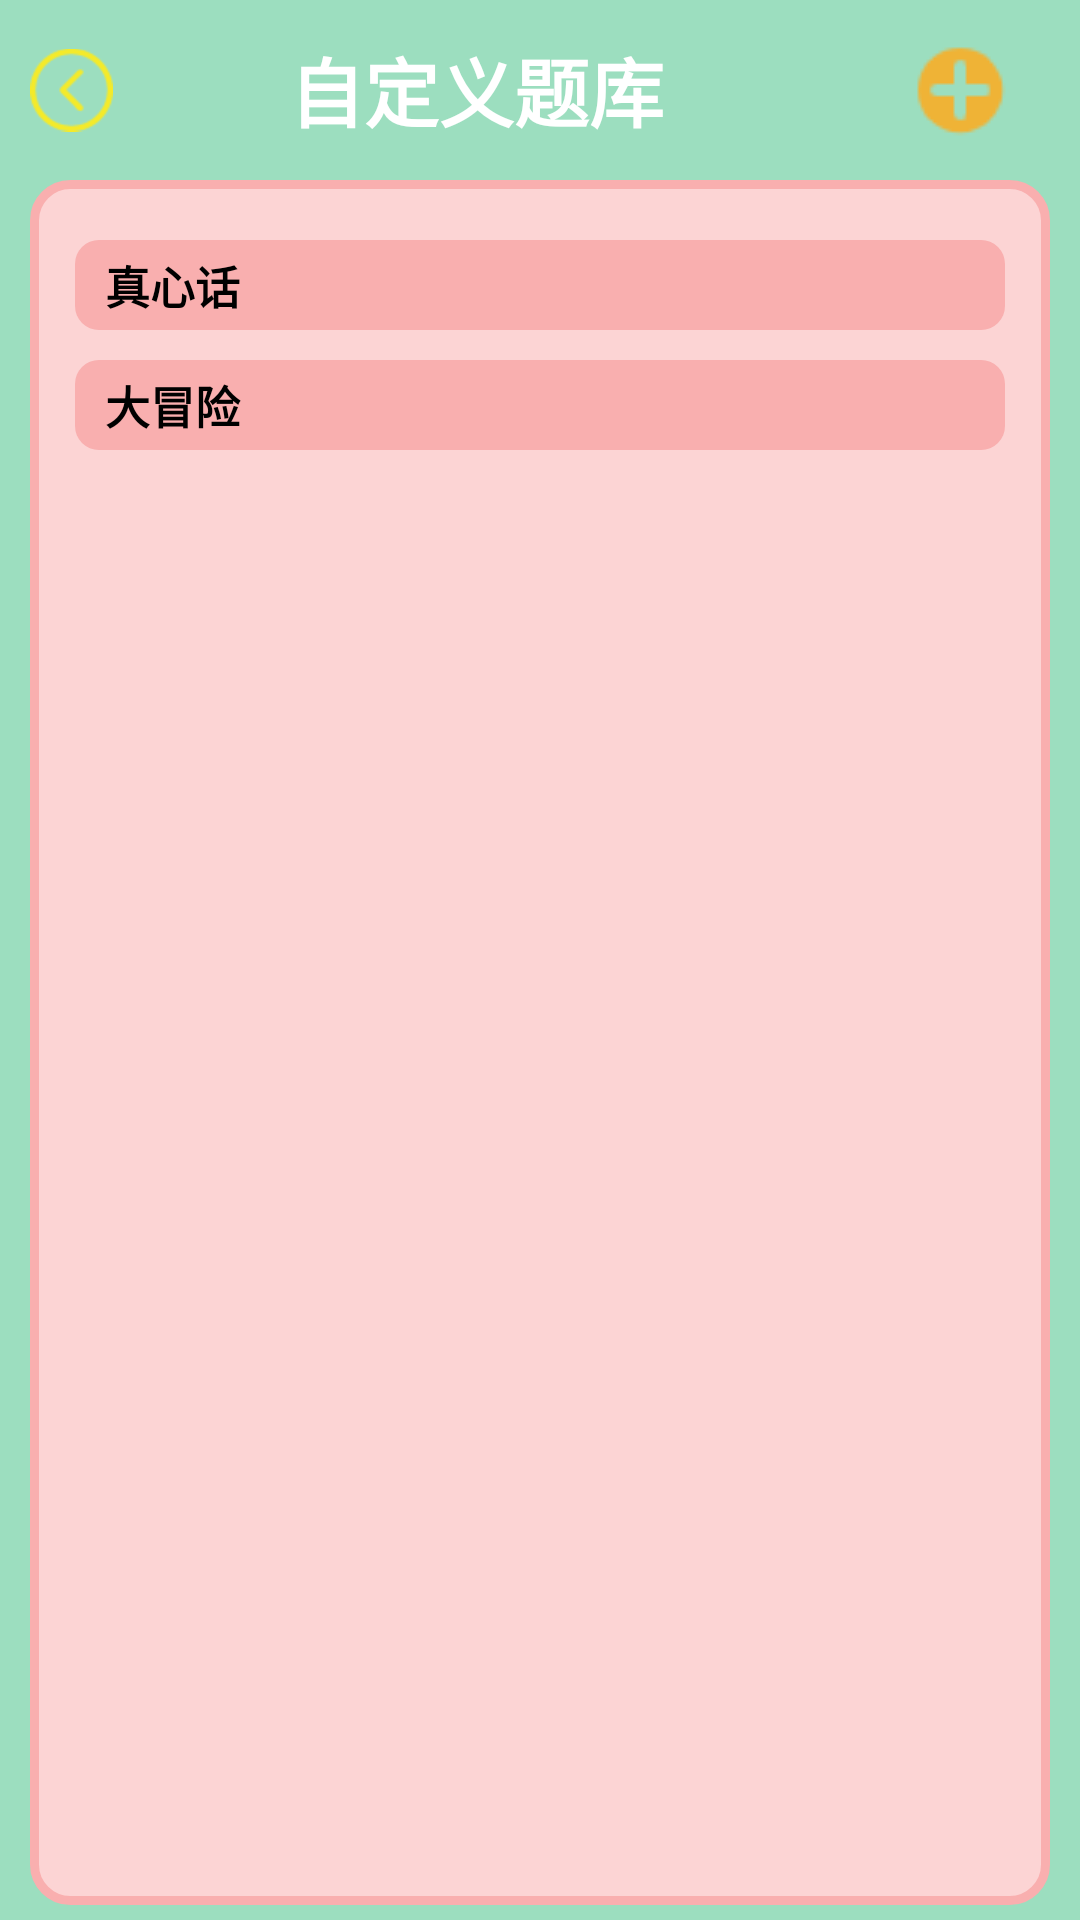

Point at icon controls on the screen. Image size 1080 × 1920, points as (x,y).
add: (960,90)
back: (71,90)
